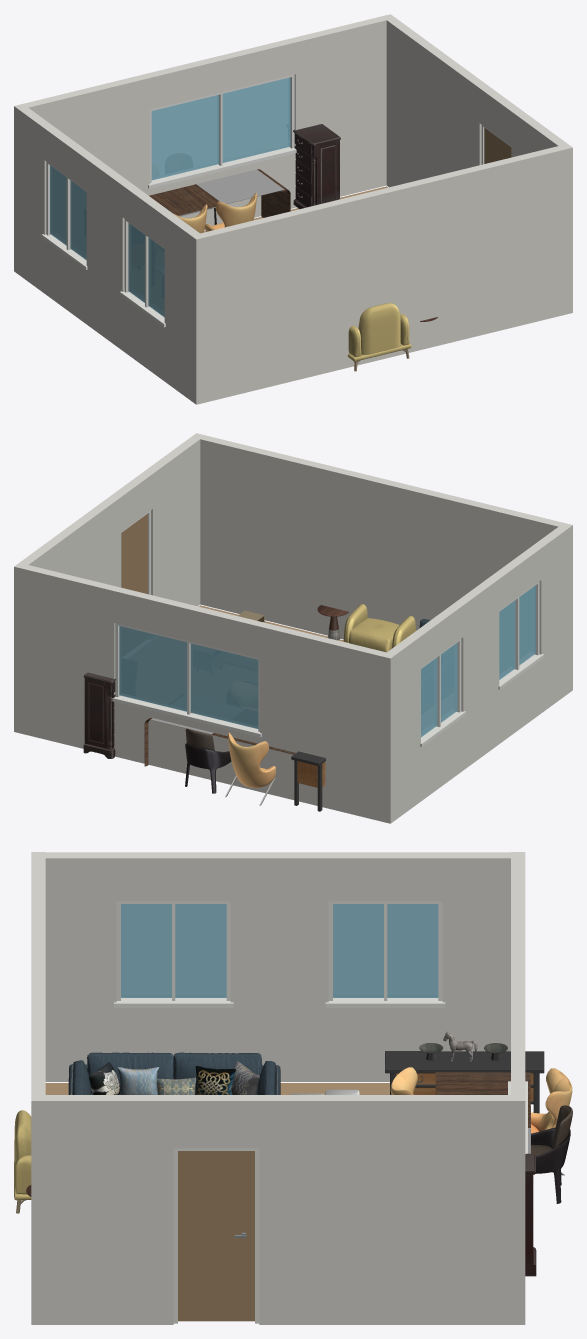
Rendered from instructscene.glb.
3 views of the same model, one above another, from view 1: azimuth 30°, elevation 25°; view 2: azimuth 150°, elevation 25°; view 3: azimuth 270°, elevation 25° (orthographic). The views are drawn at different scales.
Visible parts, largest first — view 1: wall|scenesmith_067__R00|0, wall|scenesmith_067__R00|1, wall|scenesmith_067__R00|2, wall|scenesmith_067__R00|3, wall|scenesmith_067__R00|1 Window 0 | glazing, wall|scenesmith_067__R00|2 Window 0 | glazing, raw_model.007, raw_model.005, raw_model.013, wall|scenesmith_067__R00|1 Window 0 | jamb, wall|scenesmith_067__R00|2 Window 0 | jamb, raw_model.004 (+1 smaller); view 2: wall|scenesmith_067__R00|0, wall|scenesmith_067__R00|1, wall|scenesmith_067__R00|2, wall|scenesmith_067__R00|3, wall|scenesmith_067__R00|1 Window 0 | glazing, wall|scenesmith_067__R00|2 Window 0 | glazing, raw_model.005, wall|scenesmith_067__R00|2 Window 0 | jamb, wall|scenesmith_067__R00|1 Window 0 | jamb, raw_model.013, wall|scenesmith_067__R00|3 Door 0 | wood leaf, raw_model.004 (+3 smaller); view 3: wall|scenesmith_067__R00|3, wall|scenesmith_067__R00|2, wall|scenesmith_067__R00|2 Window 0 | glazing, wall|scenesmith_067__R00|3 Door 0 | wood leaf, raw_model.016, wall|scenesmith_067__R00|2 Window 0 | jamb, raw_model.006, wall|scenesmith_067__R00|0, wall|scenesmith_067__R00|1, raw_model.015, raw_model.004, wall|scenesmith_067__R00|3 Door 0 | jamb (+4 smaller).
Boxes of the visible parts, box(x1,y1,x2,y2) form: wall|scenesmith_067__R00|0: box(191, 146, 572, 404); wall|scenesmith_067__R00|1: box(14, 16, 386, 229); wall|scenesmith_067__R00|2: box(14, 106, 205, 404); wall|scenesmith_067__R00|3: box(382, 14, 572, 187); wall|scenesmith_067__R00|1 Window 0 | glazing: box(151, 77, 290, 180); wall|scenesmith_067__R00|2 Window 0 | glazing: box(50, 165, 164, 317); raw_model.007: box(149, 169, 290, 217); raw_model.005: box(293, 124, 340, 208); raw_model.013: box(347, 303, 411, 371); wall|scenesmith_067__R00|1 Window 0 | jamb: box(148, 74, 296, 188); wall|scenesmith_067__R00|2 Window 0 | jamb: box(41, 162, 165, 327); raw_model.004: box(173, 193, 257, 233); wall|scenesmith_067__R00|0: box(200, 435, 572, 639); wall|scenesmith_067__R00|1: box(23, 565, 395, 821); wall|scenesmith_067__R00|2: box(381, 525, 572, 823); wall|scenesmith_067__R00|3: box(14, 433, 204, 733); wall|scenesmith_067__R00|1 Window 0 | glazing: box(119, 626, 258, 728); wall|scenesmith_067__R00|2 Window 0 | glazing: box(421, 585, 535, 737); raw_model.005: box(83, 672, 115, 758); wall|scenesmith_067__R00|2 Window 0 | jamb: box(420, 581, 544, 746); wall|scenesmith_067__R00|1 Window 0 | jamb: box(112, 623, 261, 737); raw_model.013: box(342, 604, 415, 652); wall|scenesmith_067__R00|3 Door 0 | wood leaf: box(121, 513, 147, 593); raw_model.004: box(225, 732, 275, 805); wall|scenesmith_067__R00|3: box(31, 1095, 525, 1324); wall|scenesmith_067__R00|2: box(45, 852, 510, 1081); wall|scenesmith_067__R00|2 Window 0 | glazing: box(121, 904, 438, 997); wall|scenesmith_067__R00|3 Door 0 | wood leaf: box(178, 1151, 254, 1321); raw_model.016: box(68, 1052, 280, 1094); wall|scenesmith_067__R00|2 Window 0 | jamb: box(114, 901, 445, 1007); raw_model.006: box(385, 1031, 544, 1113); wall|scenesmith_067__R00|0: box(31, 852, 45, 1094); wall|scenesmith_067__R00|1: box(511, 852, 525, 1094); raw_model.015: box(531, 1105, 572, 1203); raw_model.004: box(390, 1067, 572, 1175); wall|scenesmith_067__R00|3 Door 0 | jamb: box(173, 1148, 259, 1323).
Bounding box in the file's own units: 6.23 × 2.61 × 5.89.
Materials: 19 (13 with a texture image).
